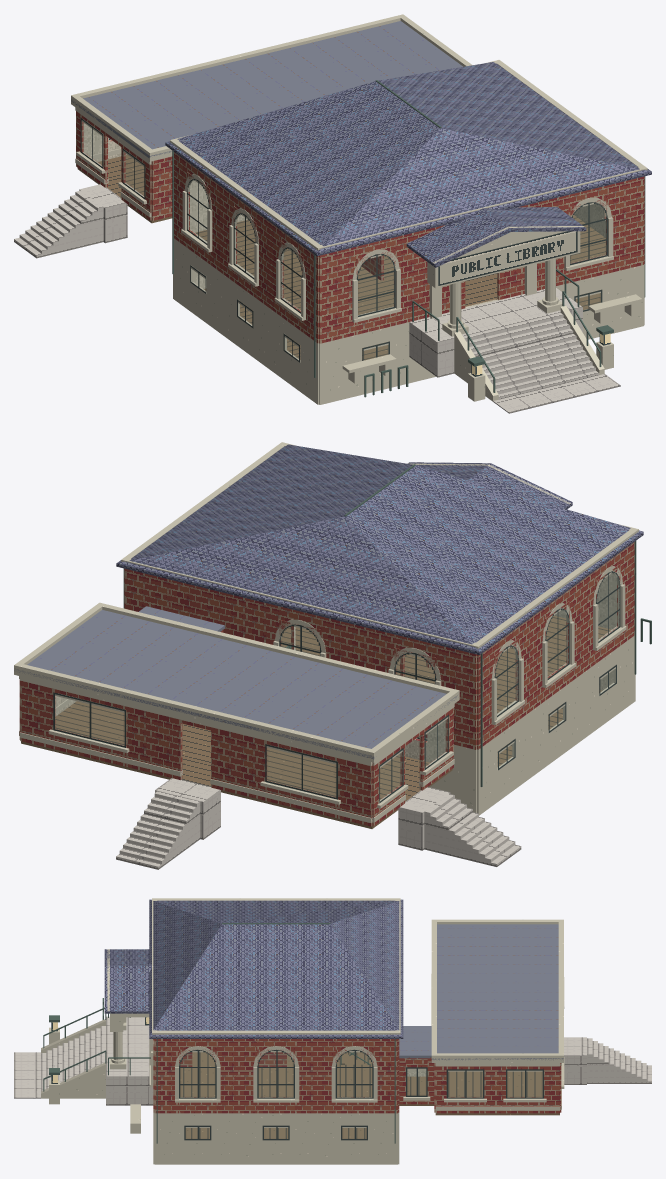
The model's file is public-library-1970s.glb.
The picture shows the model from 3 angles, top to bottom: view 1: azimuth 30°, elevation 25°; view 2: azimuth 150°, elevation 25°; view 3: azimuth 270°, elevation 25°; orthographic projection. The views are drawn at different scales.
Visible parts, largest first — view 1: structure__roof_slate, structure__detail_stone, structure__wall_brick, addition_1970s__roof_membrane, structure__ground_paving, structure__detail_wood, addition_1970s__detail_stone, addition_1970s__ground_paving, addition_1970s__wall_brick, sign_name, structure__glass_reading, lot__ground_paving (+5 smaller); view 2: structure__roof_slate, addition_1970s__roof_membrane, structure__wall_brick, structure__detail_stone, addition_1970s__wall_brick, addition_1970s__detail_stone, addition_1970s__ground_paving, addition_1970s__detail_wood, structure__detail_wood, structure__glass_reading, addition_1970s__glass_reading, structure__detail_steel; view 3: structure__roof_slate, structure__detail_stone, addition_1970s__roof_membrane, structure__wall_brick, structure__ground_paving, addition_1970s__detail_stone, structure__detail_wood, addition_1970s__wall_brick, addition_1970s__ground_paving, addition_1970s__detail_wood, structure__glass_reading, lot__ground_paving (+2 smaller).
Boxes of the visible parts, bbox=[...] form: structure__roof_slate: bbox=[165, 62, 651, 267]; structure__detail_stone: bbox=[170, 60, 647, 404]; structure__wall_brick: bbox=[174, 152, 644, 343]; addition_1970s__roof_membrane: bbox=[71, 21, 462, 157]; structure__ground_paving: bbox=[409, 288, 599, 399]; structure__detail_wood: bbox=[195, 215, 605, 360]; addition_1970s__detail_stone: bbox=[71, 14, 472, 217]; addition_1970s__ground_paving: bbox=[14, 184, 127, 258]; addition_1970s__wall_brick: bbox=[76, 111, 172, 220]; sign_name: bbox=[438, 231, 577, 285]; structure__glass_reading: bbox=[187, 179, 607, 362]; lot__ground_paving: bbox=[493, 374, 620, 413]; structure__roof_slate: bbox=[116, 444, 643, 654]; addition_1970s__roof_membrane: bbox=[14, 606, 457, 759]; structure__wall_brick: bbox=[124, 542, 634, 749]; structure__detail_stone: bbox=[121, 442, 638, 815]; addition_1970s__wall_brick: bbox=[19, 630, 453, 826]; addition_1970s__detail_stone: bbox=[14, 602, 459, 822]; addition_1970s__ground_paving: bbox=[116, 778, 521, 869]; addition_1970s__detail_wood: bbox=[21, 698, 452, 828]; structure__detail_wood: bbox=[281, 615, 611, 766]; structure__glass_reading: bbox=[279, 571, 620, 770]; addition_1970s__glass_reading: bbox=[53, 692, 448, 803]; structure__detail_steel: bbox=[123, 464, 636, 786]; structure__roof_slate: bbox=[104, 899, 403, 1038]; structure__detail_stone: bbox=[41, 898, 400, 1164]; addition_1970s__roof_membrane: bbox=[399, 924, 563, 1060]; structure__wall_brick: bbox=[153, 1039, 399, 1113]; structure__ground_paving: bbox=[41, 1016, 153, 1105]; addition_1970s__detail_stone: bbox=[403, 919, 564, 1110]; structure__detail_wood: bbox=[180, 1052, 372, 1138]; addition_1970s__wall_brick: bbox=[399, 1058, 561, 1113]; addition_1970s__ground_paving: bbox=[564, 1037, 651, 1084]; addition_1970s__detail_wood: bbox=[399, 1071, 559, 1115]; structure__glass_reading: bbox=[179, 1049, 373, 1140]; lot__ground_paving: bbox=[14, 1052, 40, 1098].
Size of what is drawn, in the model's own units: 23.28 by 11.06 by 36.63.
11 materials, 11 textured.
